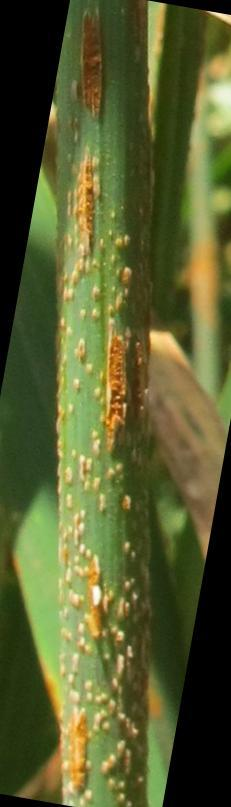Wheat: (66, 318, 146, 807), (73, 10, 138, 301)
